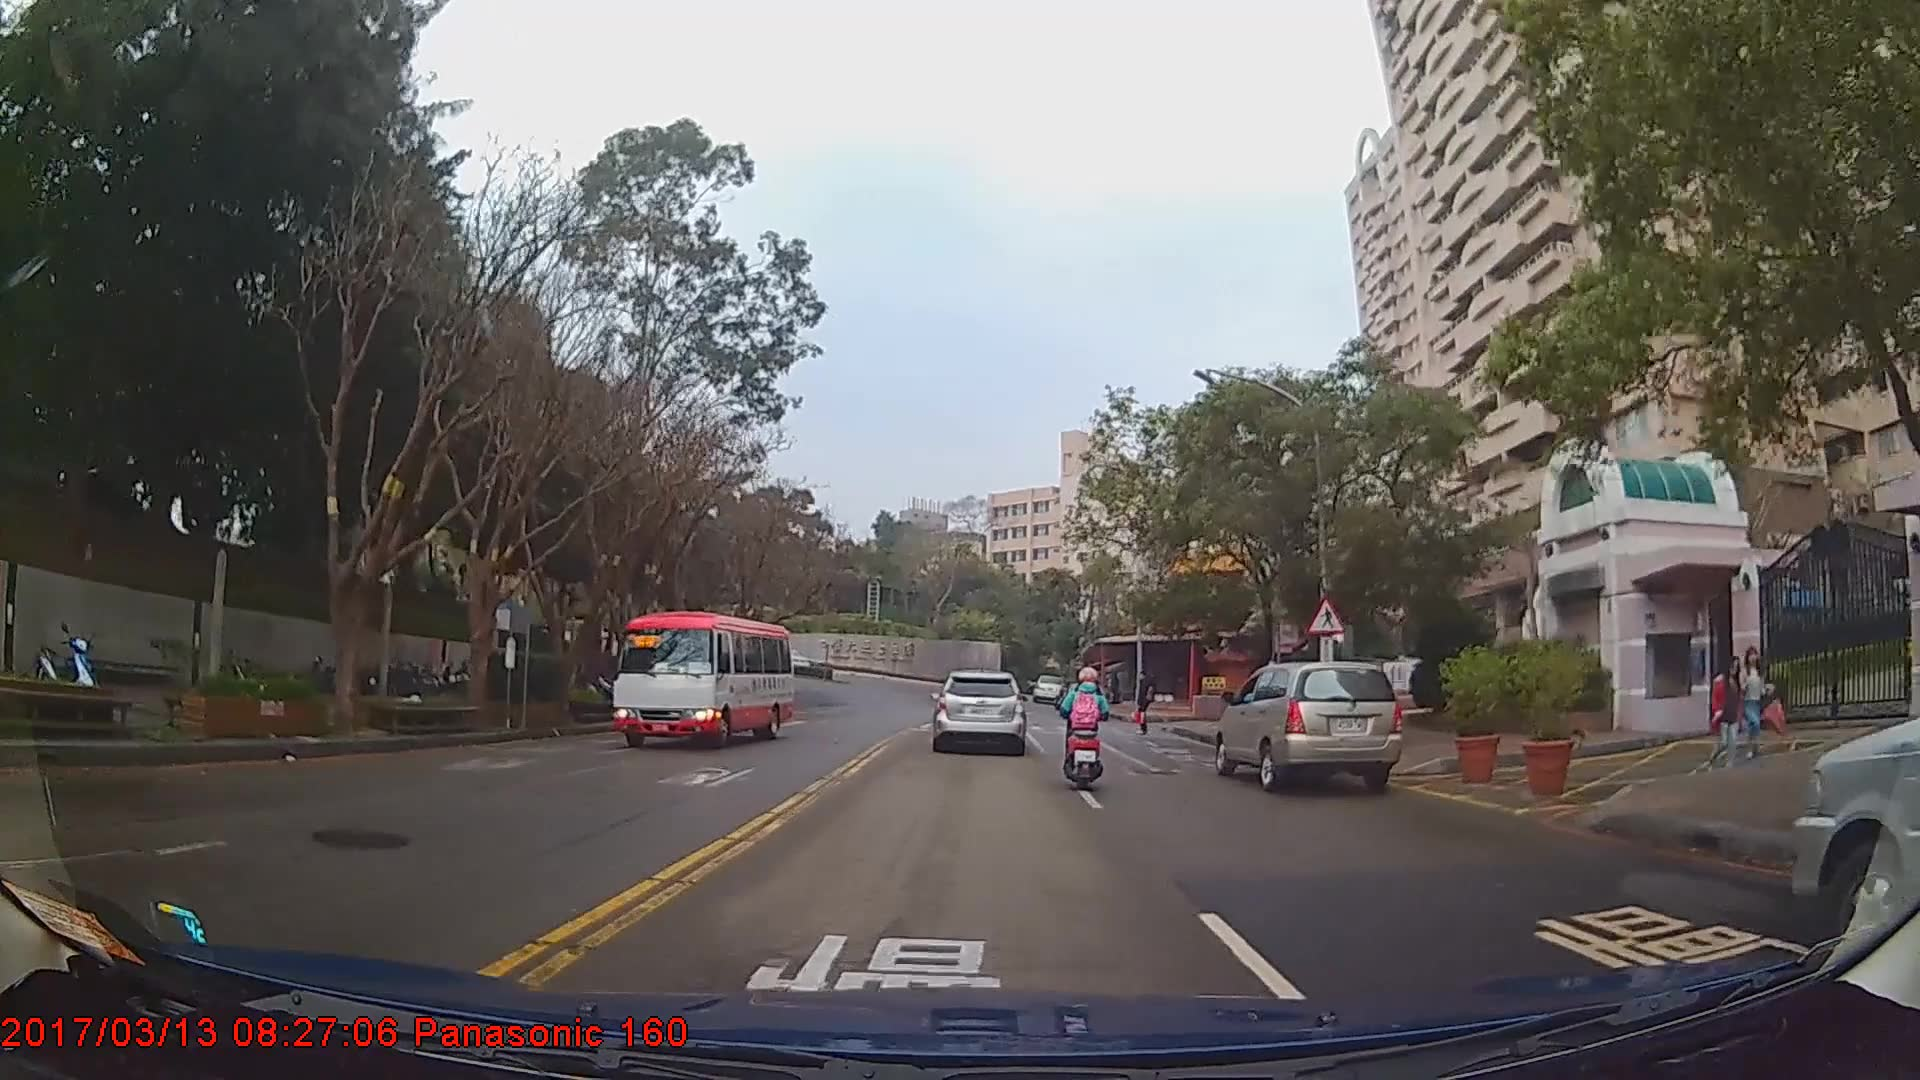pedestrian: (1705, 643, 1752, 779), (1737, 633, 1782, 767), (1132, 669, 1158, 740)
rider: (1059, 664, 1114, 794)
vehicle: (1792, 715, 1920, 966), (610, 610, 795, 749), (1212, 660, 1399, 793), (929, 669, 1026, 755), (1031, 674, 1064, 702)
